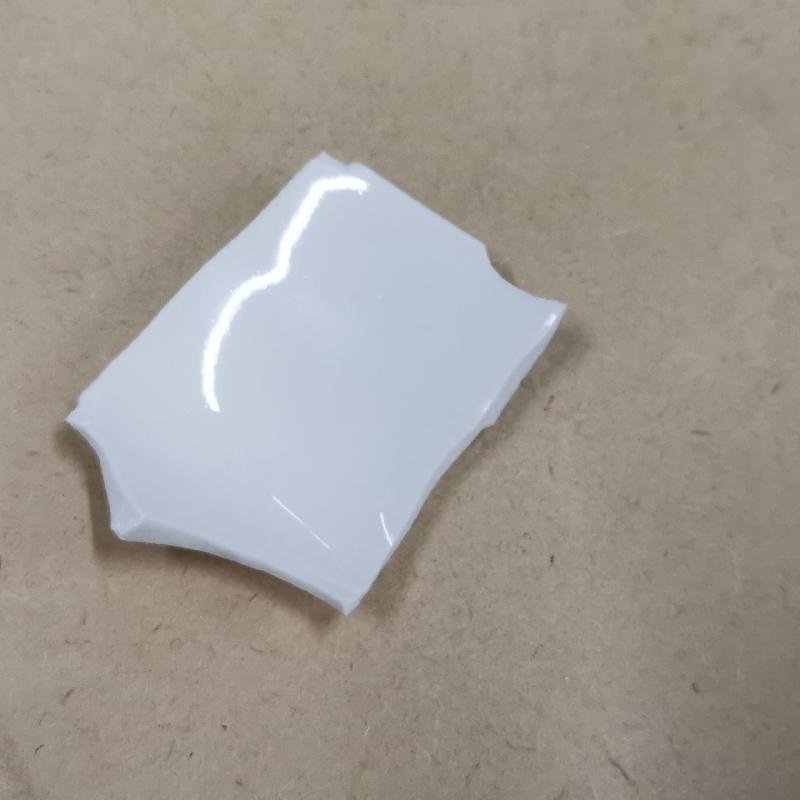ceram: (60, 153, 572, 621)
